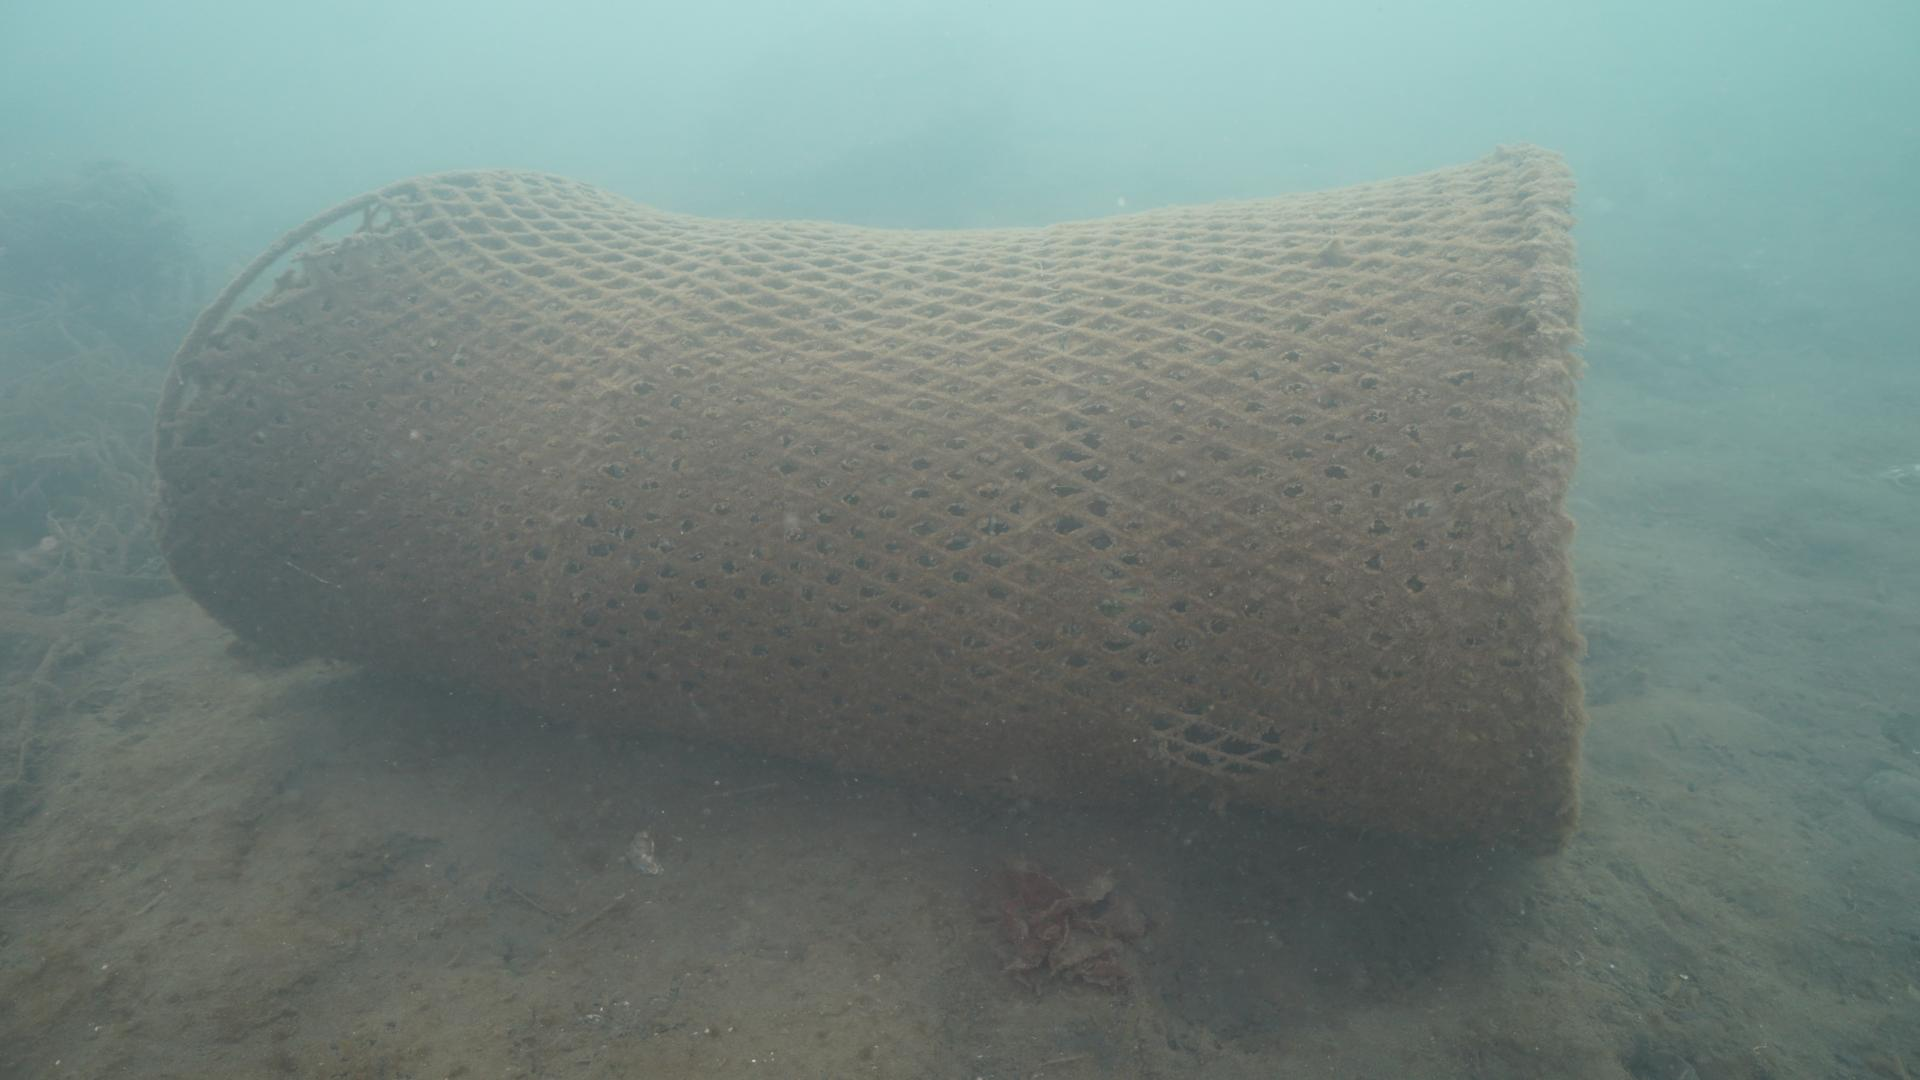spring fish trap: (152, 136, 1586, 868)
